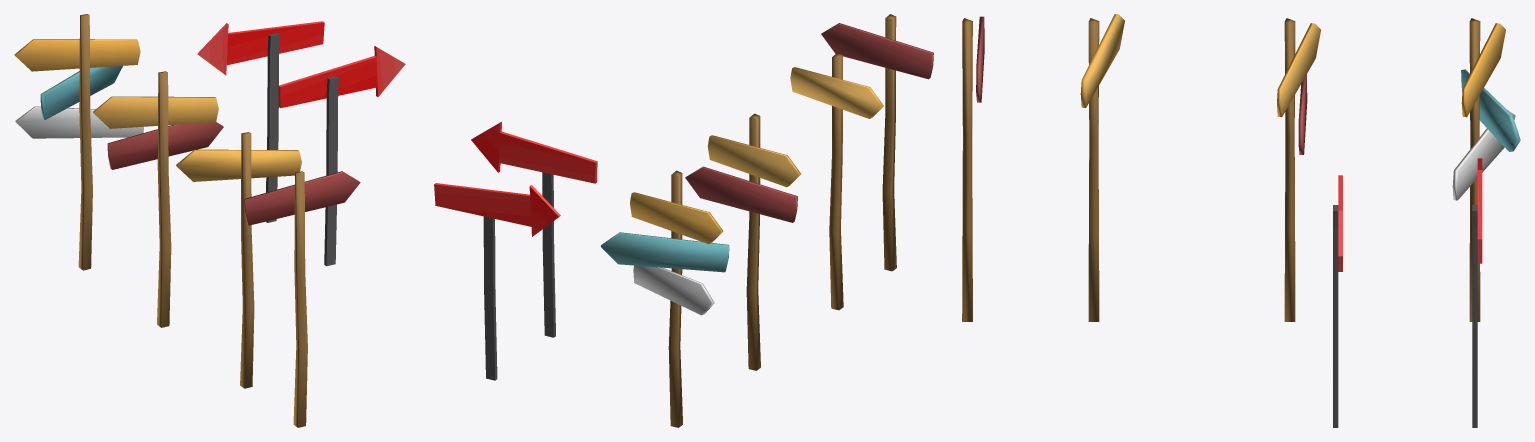
The model's file is Panah_jalan.fbx.
3 renders of one model, left to right at view 1: azimuth 30°, elevation 25°; view 2: azimuth 150°, elevation 25°; view 3: azimuth 270°, elevation 25°, orthographic. The views are drawn at different scales.
Parts seen in each view (by area): view 1: Cube.043, Cube.003, Cube.011, Cube.007, Cube.005, Cube.034; view 2: Cube.043, Cube.003, Cube.011, Cube.034, Cube.005, Cube.007; view 3: Cube.043, Cube.003, Cube.007, Cube.011, Cube.034, Cube.005.
Boxes of the visible parts, x1=… form: Cube.043: x1=14, y1=14, x2=143, y2=270; Cube.003: x1=93, y1=71, x2=223, y2=327; Cube.011: x1=244, y1=171, x2=360, y2=427; Cube.007: x1=176, y1=132, x2=301, y2=388; Cube.005: x1=278, y1=46, x2=405, y2=266; Cube.034: x1=197, y1=21, x2=324, y2=222; Cube.043: x1=600, y1=170, x2=729, y2=427; Cube.003: x1=685, y1=113, x2=800, y2=370; Cube.011: x1=821, y1=14, x2=933, y2=271; Cube.034: x1=434, y1=183, x2=560, y2=380; Cube.005: x1=471, y1=121, x2=597, y2=337; Cube.007: x1=790, y1=53, x2=883, y2=310; Cube.043: x1=1452, y1=18, x2=1520, y2=321; Cube.003: x1=1277, y1=18, x2=1320, y2=321; Cube.007: x1=1080, y1=14, x2=1124, y2=321; Cube.011: x1=962, y1=16, x2=984, y2=321; Cube.034: x1=1472, y1=158, x2=1482, y2=427; Cube.005: x1=1333, y1=175, x2=1342, y2=427.
Bounding box in the file's own units: 271 × 205 × 346.
